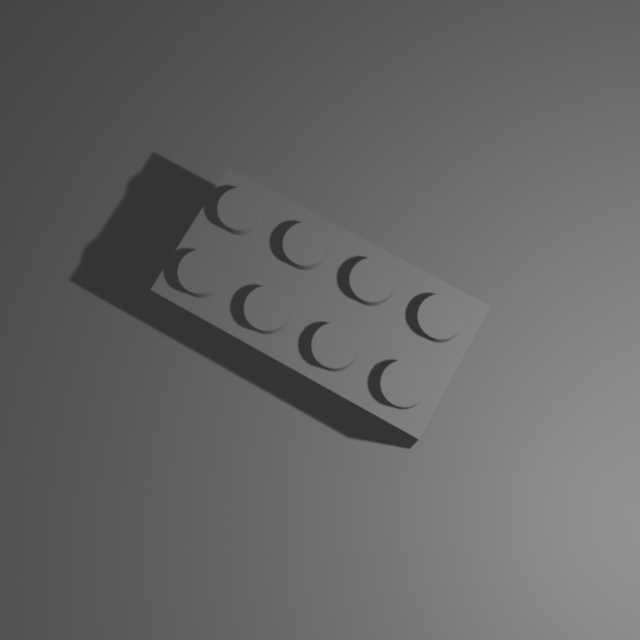lego_2x4: (147, 161, 493, 449)
